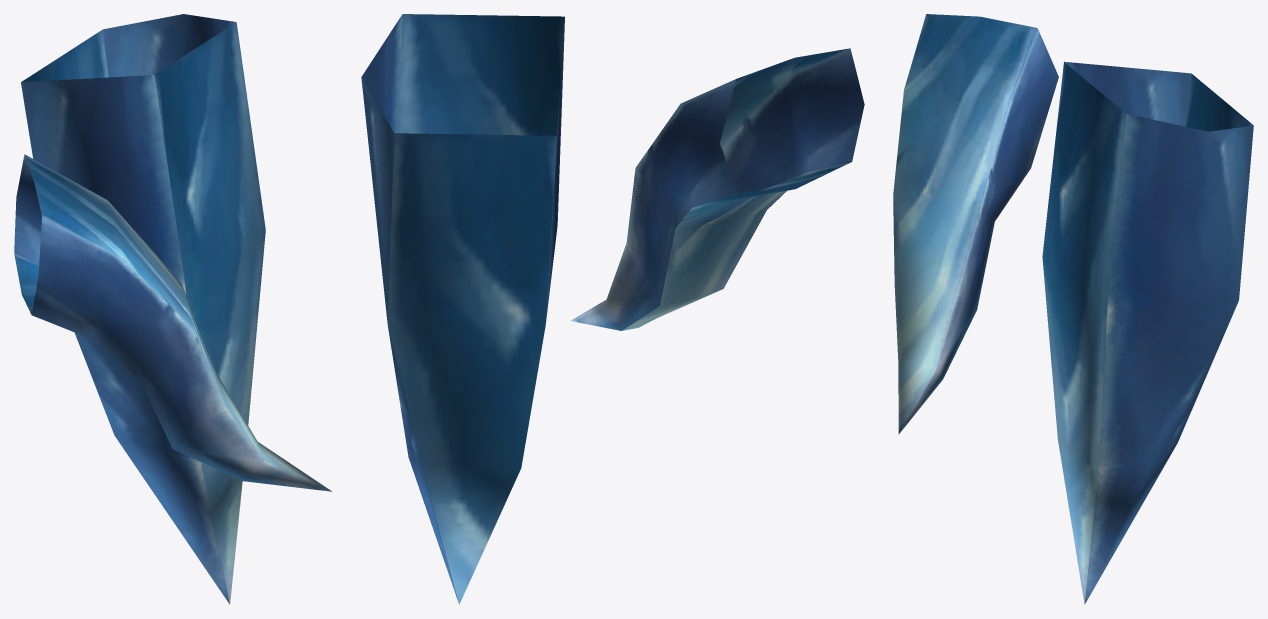
The model's file is SM_crystal_02.fbx.
The picture shows the model from 3 angles, left to right: view 1: azimuth 30°, elevation 25°; view 2: azimuth 150°, elevation 25°; view 3: azimuth 270°, elevation 25°; orthographic projection. The views are drawn at different scales.
Parts seen in each view (by area): view 1: SM_crystal_02; view 2: SM_crystal_02; view 3: SM_crystal_02.
Part boxes in pixels (left/top/right/bottom): SM_crystal_02: left=14, top=14, right=331, bottom=604; SM_crystal_02: left=361, top=14, right=864, bottom=604; SM_crystal_02: left=893, top=14, right=1253, bottom=604.
Size of the model in its own units: 0.9165 by 1.47 by 0.9542.
